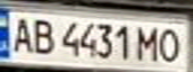1: (112, 21, 133, 61)
3: (93, 20, 115, 60)
4: (57, 18, 81, 57), (78, 20, 96, 58)
A: (6, 14, 36, 54)
B: (27, 16, 57, 55)
M: (136, 24, 163, 62)
O: (154, 25, 187, 63)
